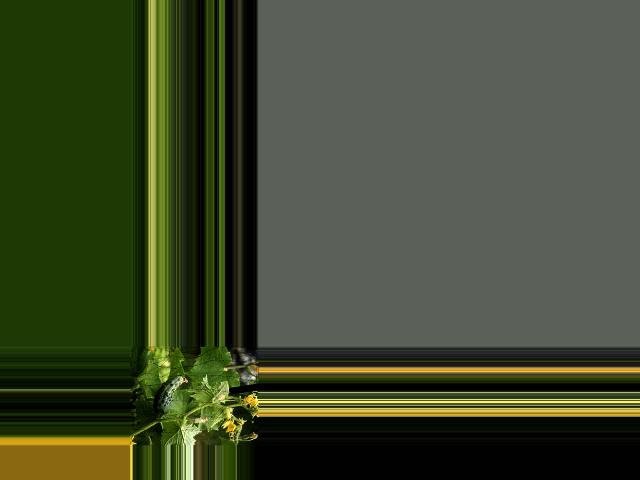cucumber: (153, 375, 188, 416)
